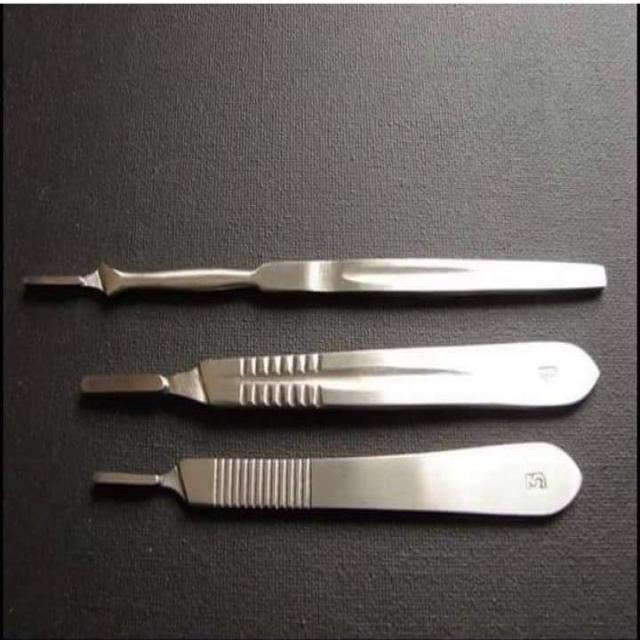Knife handle: (67, 337, 608, 427), (89, 439, 586, 527)
